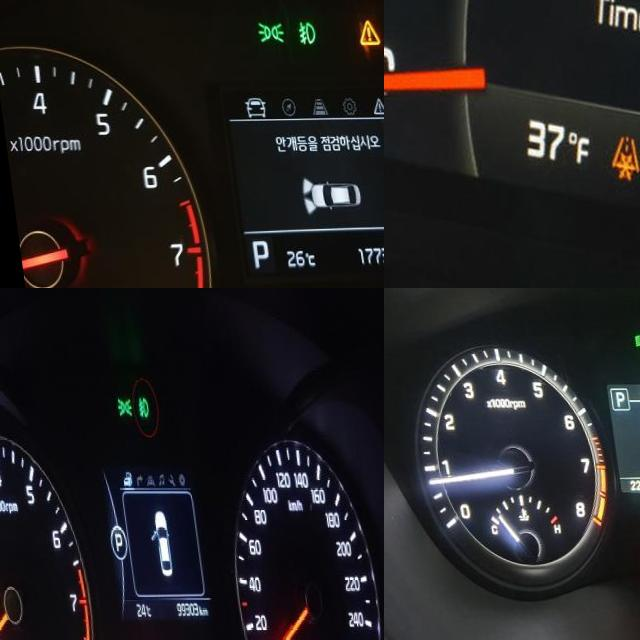Central Warning lamp: (350, 18, 374, 46)
FrontFogLight: (290, 20, 309, 44), (132, 396, 145, 418)
Low beam: (626, 332, 640, 347)
SideLamp: (249, 20, 277, 42), (111, 396, 128, 416)
